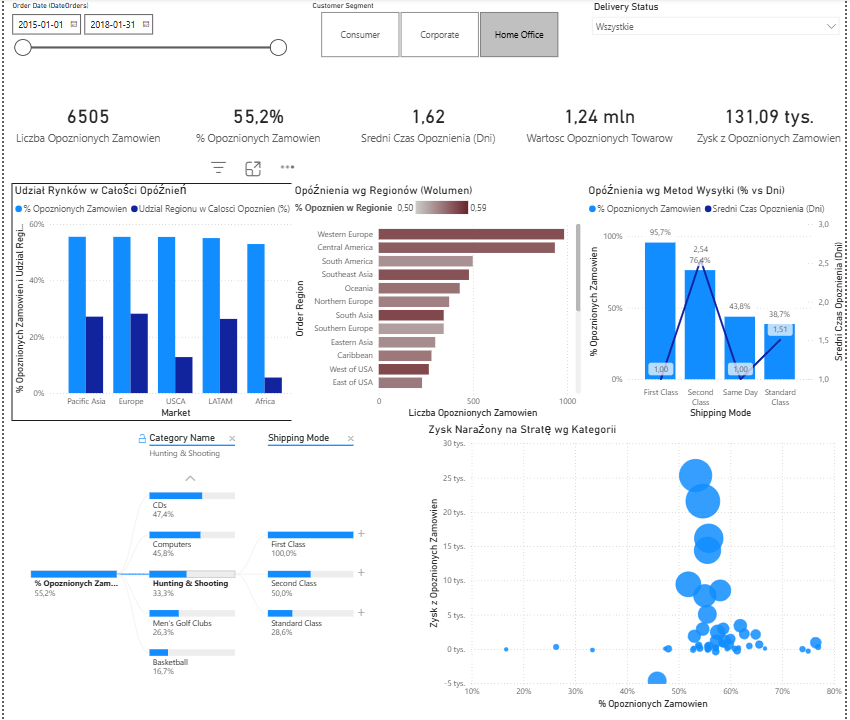

What the dashboard file says about the page in this screenshot:
{"tool":"powerbi","page":{"name":"Supply Chain","canvas":[1280,1100],"ordinal":1},"visuals":[{"type":"shape","box":[0,0,1280.4,96.7],"z":0},{"type":"slicer","fields":{"Values":["portfoli 3.Order Date (DateOrders)"]},"box":[0,0,438,96.7],"z":1000},{"type":"slicer","fields":{"Values":["portfoli 3.Customer Segment"]},"box":[456.2,0,410.6,96.7],"z":2000},{"type":"slicer","fields":{"Values":["portfoli 3.Delivery Status"]},"box":[883.9,0,396.6,96.7],"z":3000},{"type":"card","fields":{"Values":["_Mary.Liczba Opoznionych Zamowien"]},"box":[10.9,96.7,233.6,184.3],"z":4000},{"type":"card","fields":{"Values":["_Mary.% Opoznionych Zamowien"]},"box":[270.1,96.7,233.6,184.3],"z":5000},{"type":"card","fields":{"Values":["_Mary.Sredni Czas Opoznienia (Dni)"]},"box":[529.2,96.7,233.6,184.3],"z":6000},{"type":"card","fields":{"Values":["_Mary.Wartosc Opoznionych Towarow"]},"box":[788.3,96.7,233.6,184.3],"z":7000},{"type":"card","fields":{"Values":["_Mary.Zysk z Opoznionych Zamowien"]},"box":[1047.5,96.7,231.8,184.3],"z":8000},{"type":"clusteredColumnChart","title":"Udział Rynków w Całości Opóźnień","fields":{"Category":["portfoli 3.Market"],"Y":["_Mary.% Opoznionych Zamowien","_Mary.Udzial Regionu w Calosci Opoznien (%)"]},"box":[10.9,281,445.3,363.1],"z":9000},{"type":"barChart","title":"Opóźnienia wg Regionów (Wolumen)","fields":{"Category":["portfoli 3.Order Region","portfoli 3.Order Country","portfoli 3.Order City"],"Y":["_Mary.Liczba Opoznionych Zamowien"]},"box":[438,281,445.3,363.1],"z":10000},{"type":"lineClusteredColumnComboChart","title":"Opóźnienia wg Metod Wysyłki (% vs Dni)","fields":{"Category":["portfoli 3.Shipping Mode"],"Y":["_Mary.% Opoznionych Zamowien"],"Y2":["_Mary.Sredni Czas Opoznienia (Dni)"]},"box":[883.2,281,397.8,363.1],"z":11000},{"type":"decompositionTreeVisual","fields":{"Analyze":["_Mary.% Opoznionych Zamowien"],"ExplainBy":["portfoli 3.Category Name","portfoli 3.Shipping Mode","portfoli 3.Department Name","portfoli 3.Customer Segment"]},"box":[10.9,644.2,649.6,441.6],"z":12000},{"type":"scatterChart","title":"Zysk Narażony na Stratę wg Kategorii","fields":{"X":["_Mary.% Opoznionych Zamowien"],"Y":["_Mary.Zysk z Opoznionych Zamowien"],"Size":["_Mary.Wartosc Opoznionych Towarow"],"Category":["portfoli 3.Category Name"]},"box":[640.5,644.2,638.7,441.6],"z":13000}]}

Visuals, with their boxes in screenshot pixels (x1, y1, x2, y2), scaled from the page's 1280x1100 canvas onto the 850x720 screenshot:
shape: (0, 0, 849, 63)
slicer - portfoli 3.Order Date (DateOrders): (0, 0, 291, 63)
slicer - portfoli 3.Customer Segment: (303, 0, 576, 63)
slicer - portfoli 3.Delivery Status: (587, 0, 849, 63)
card - _Mary.Liczba Opoznionych Zamowien: (7, 63, 162, 184)
card - _Mary.% Opoznionych Zamowien: (179, 63, 334, 184)
card - _Mary.Sredni Czas Opoznienia (Dni): (351, 63, 507, 184)
card - _Mary.Wartosc Opoznionych Towarow: (523, 63, 679, 184)
card - _Mary.Zysk z Opoznionych Zamowien: (696, 63, 849, 184)
"Udział Rynków w Całości Opóźnień" clusteredColumnChart: (7, 184, 303, 422)
"Opóźnienia wg Regionów (Wolumen)" barChart: (291, 184, 587, 422)
"Opóźnienia wg Metod Wysyłki (% vs Dni)" lineClusteredColumnComboChart: (586, 184, 849, 422)
decompositionTreeVisual - _Mary.% Opoznionych Zamowien x portfoli 3.Category Name: (7, 422, 439, 711)
"Zysk Narażony na Stratę wg Kategorii" scatterChart: (425, 422, 849, 711)
